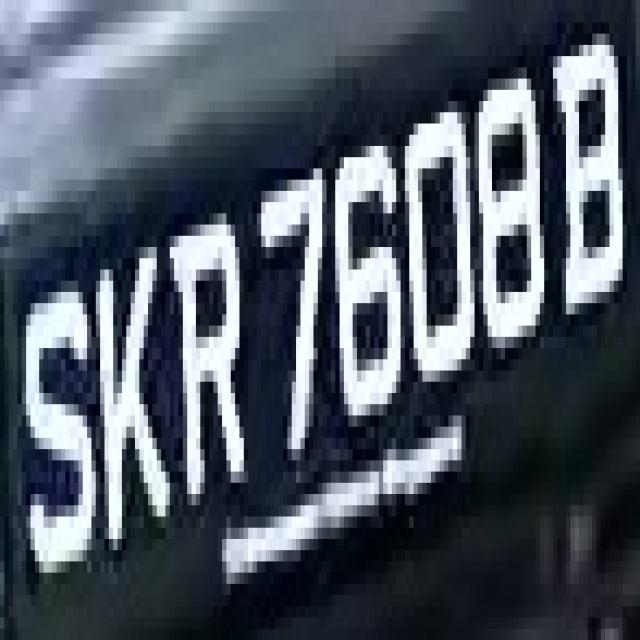0: (388, 101, 483, 404)
6: (326, 123, 405, 460)
7: (244, 146, 331, 483)
8: (466, 56, 544, 382)
B: (553, 34, 636, 382)
K: (96, 224, 165, 562)
R: (165, 191, 252, 516)
S: (9, 258, 96, 606)
